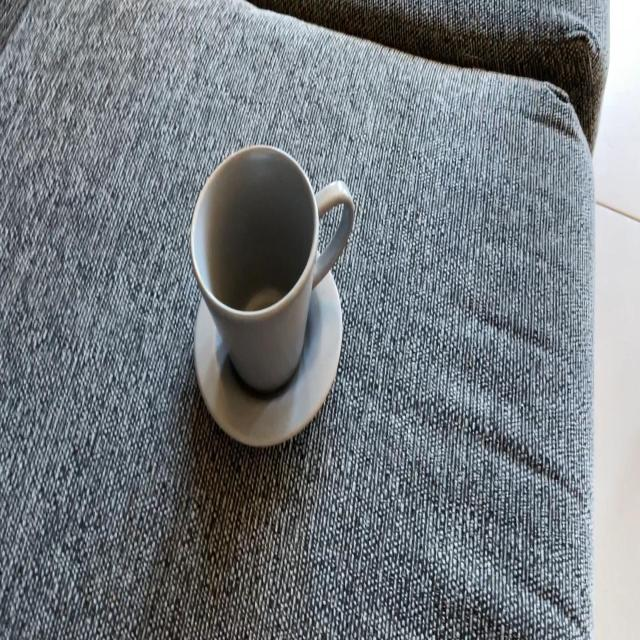cup: (191, 145, 352, 391)
